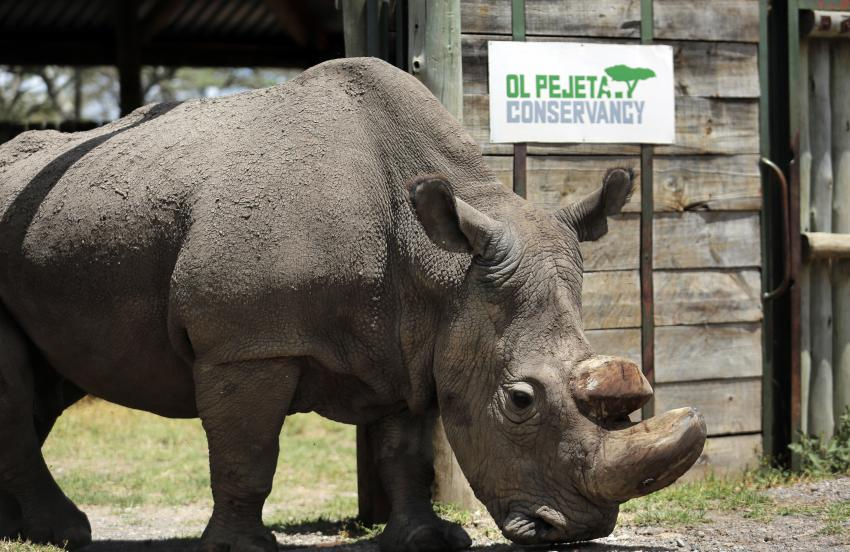Rhinoceros: (16, 42, 710, 552)
